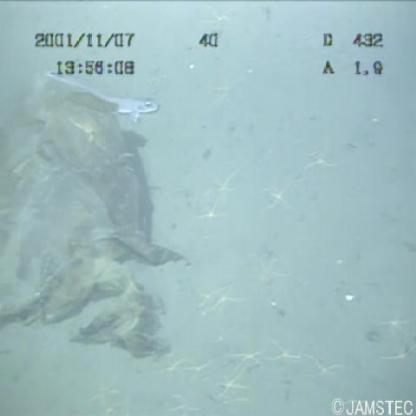Bio: (28, 54, 179, 125)
Rác: (1, 82, 181, 357)
